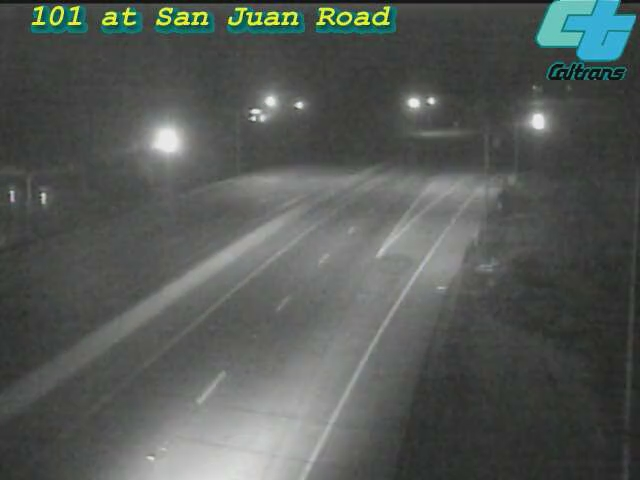vehicle: (512, 97, 562, 147)
